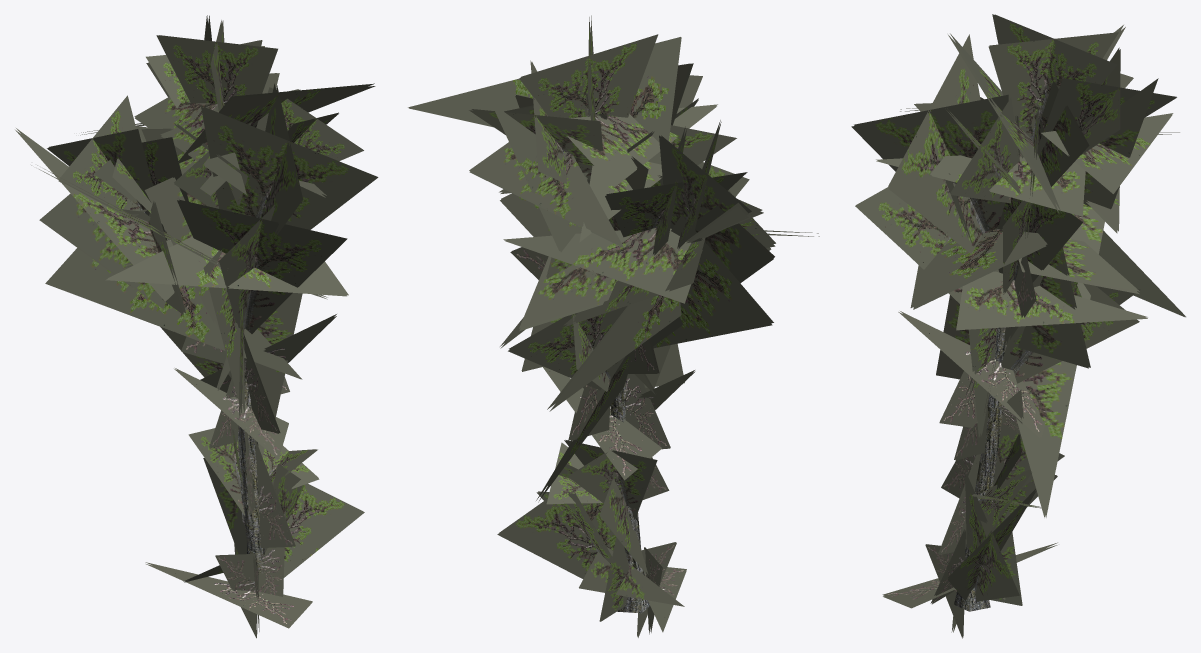
File: flora_tree_elm_v2.glb
The picture shows the model from 3 angles, left to right: view 1: azimuth 30°, elevation 25°; view 2: azimuth 150°, elevation 25°; view 3: azimuth 270°, elevation 25°; orthographic projection. The views are drawn at different scales.
Visible parts, largest first — view 1: flora_tree_elm_v2_part0; view 2: flora_tree_elm_v2_part0; view 3: flora_tree_elm_v2_part0.
Part boxes in pixels (<box>): flora_tree_elm_v2_part0: <box>15,15,378,638</box>; flora_tree_elm_v2_part0: <box>408,15,819,637</box>; flora_tree_elm_v2_part0: <box>851,14,1185,638</box>.
Size of the model in its own units: 14.77 by 23.93 by 11.96.
Materials: 1 (1 with a texture image).
